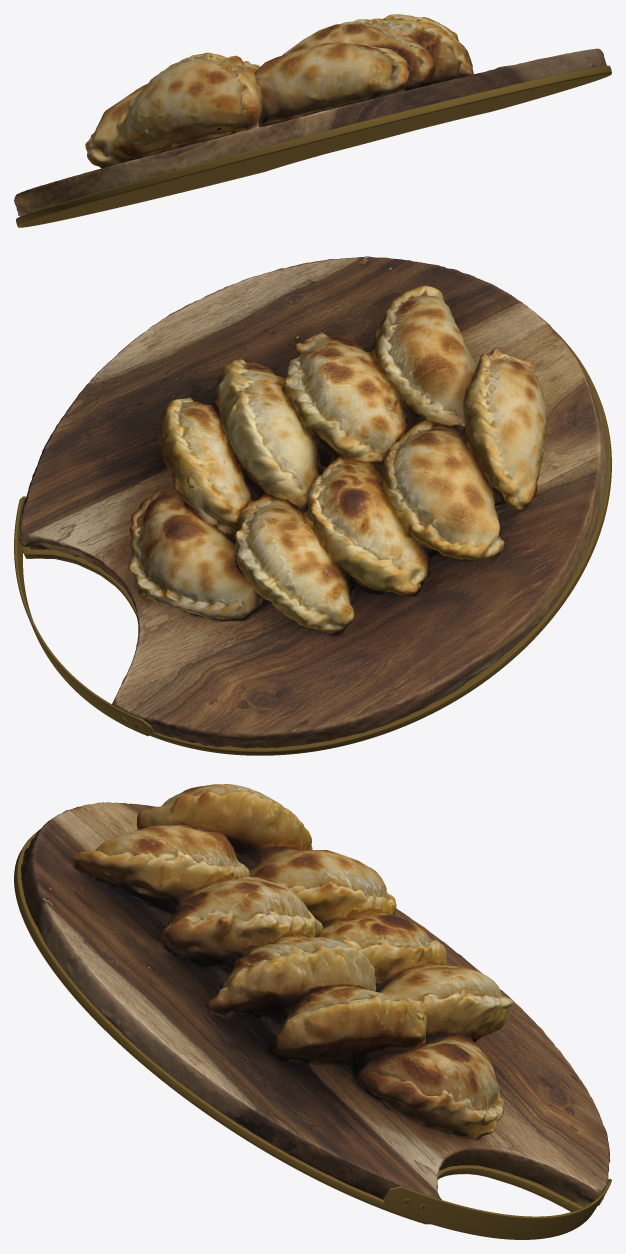
Rendered from hhm_empanadas_v4.glb.
The picture shows the model from 3 angles, top to bottom: view 1: azimuth 30°, elevation 25°; view 2: azimuth 150°, elevation 25°; view 3: azimuth 270°, elevation 25°; orthographic projection. The views are drawn at different scales.
Visible parts, largest first — view 1: Comida, Base_primitive0; view 2: Comida, Base_primitive0; view 3: Comida, Base_primitive0.
Boxes of the visible parts, x1,y1,x2,y2 form: Comida: (14,14,606,216); Base_primitive0: (16,65,611,227); Comida: (19,256,606,748); Base_primitive0: (14,329,611,755); Comida: (21,784,610,1207); Base_primitive0: (14,832,611,1239).
Bounding box in the file's own units: 0.4365 × 0.2376 × 0.3869.
Materials: 3 (1 with a texture image).
